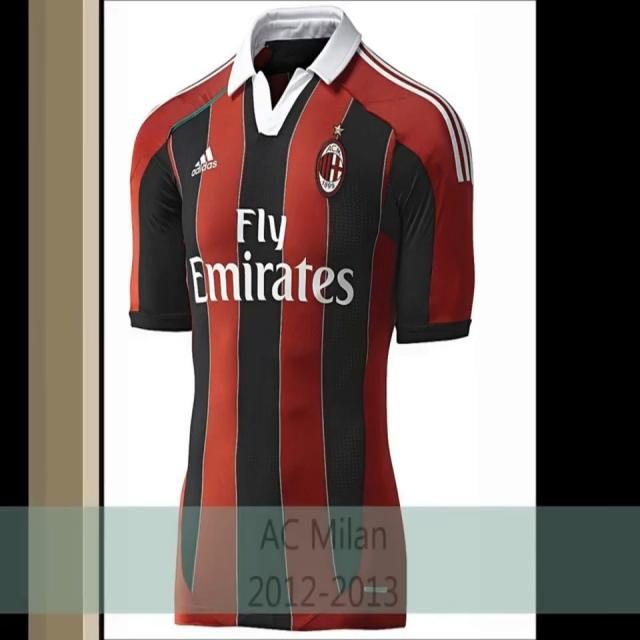Shirt: (128, 4, 475, 633)
